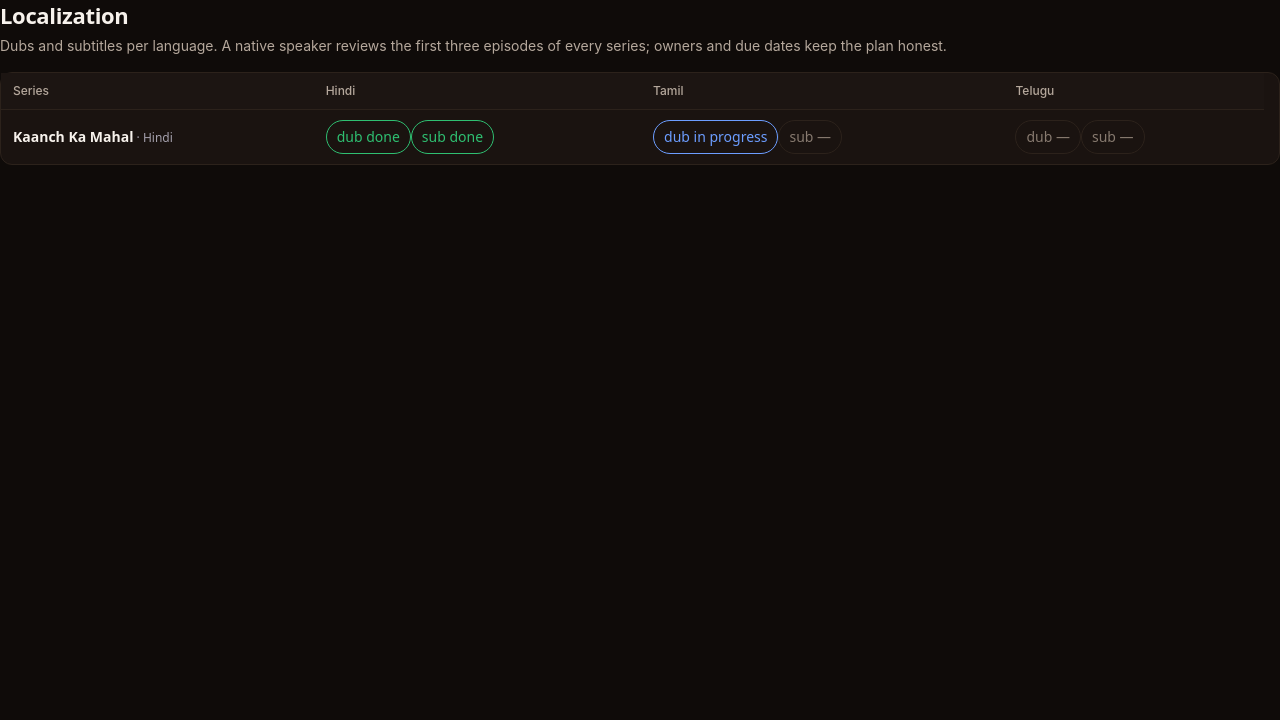
Test: Localization matrix › edits a cell through the modal and reconciles with the server
The width and height of the screenshot is (1280, 720).
Expected: the text "Kaanch Ka Mahal" is shown, [13,127,133,146]
Click the button with aria-label "Kaanch Ka Mahal Tamil sub".
click(810, 137)  # box [778,120,842,154]
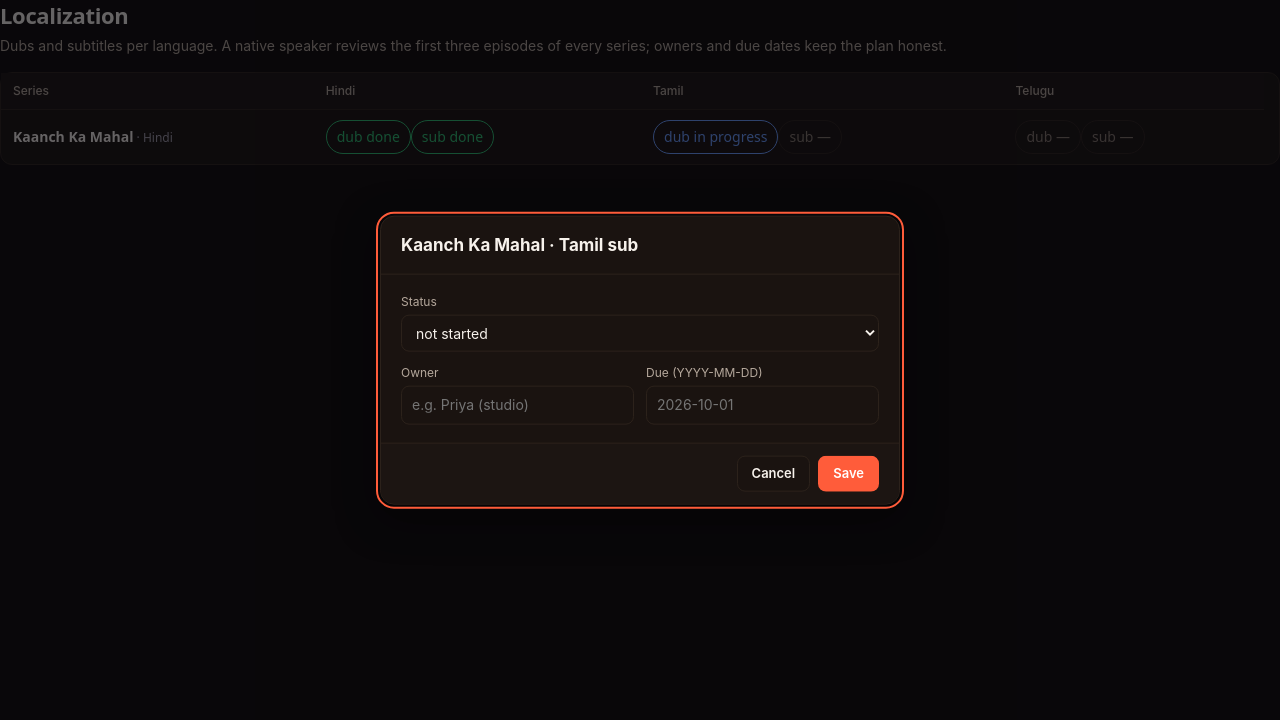
Select "in progress" in the dropdown labelled "Status" at (640, 333), box [401,315,879,352]
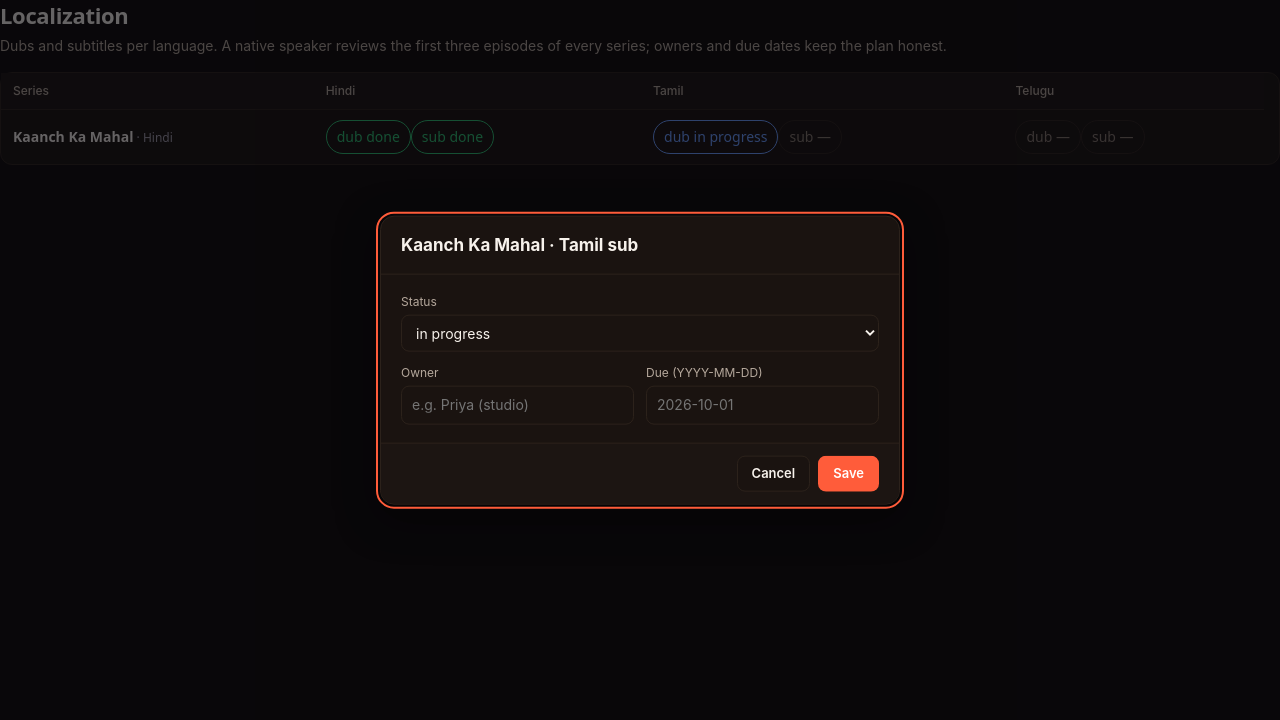
Type " Sai " into the field labelled "Owner".
click(518, 405); type(" Sai ")  # box [401,386,634,424]
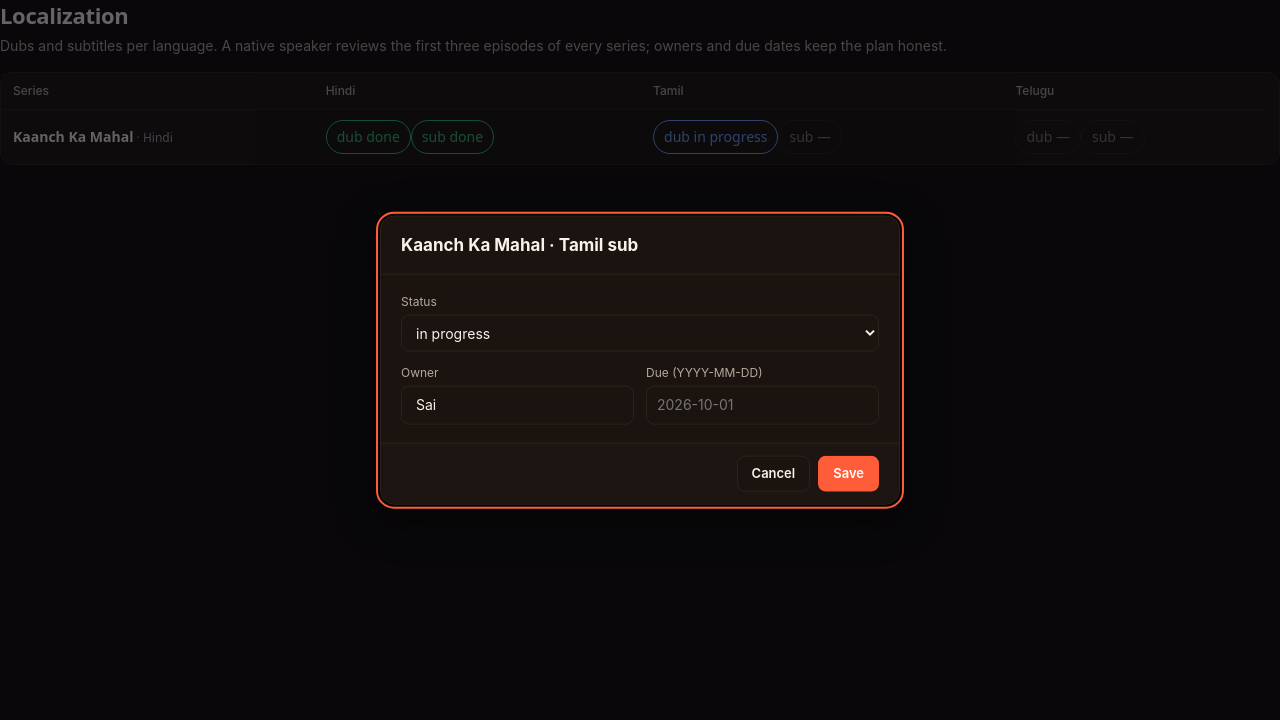
Type "2026-11-01" into the field labelled "Due".
click(762, 405); type("2026-11-01")  # box [646,386,879,424]
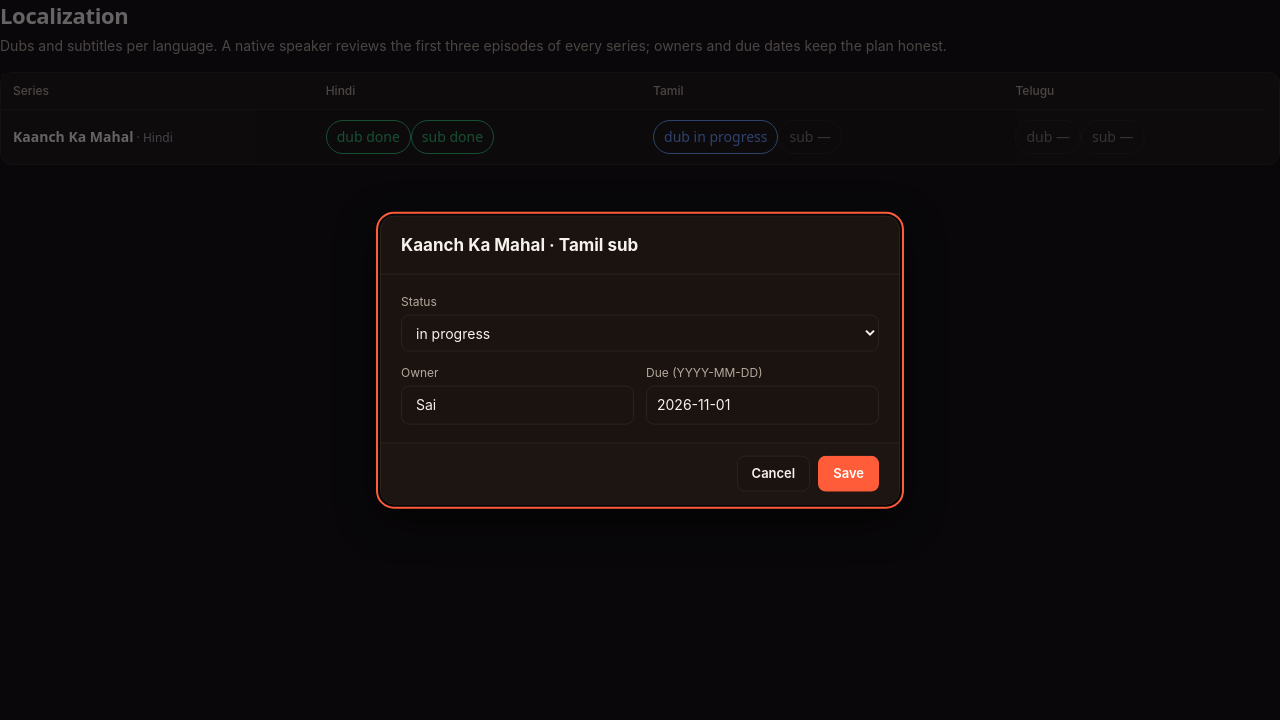
Click the button "Save".
click(849, 473)  # box [818,455,879,491]
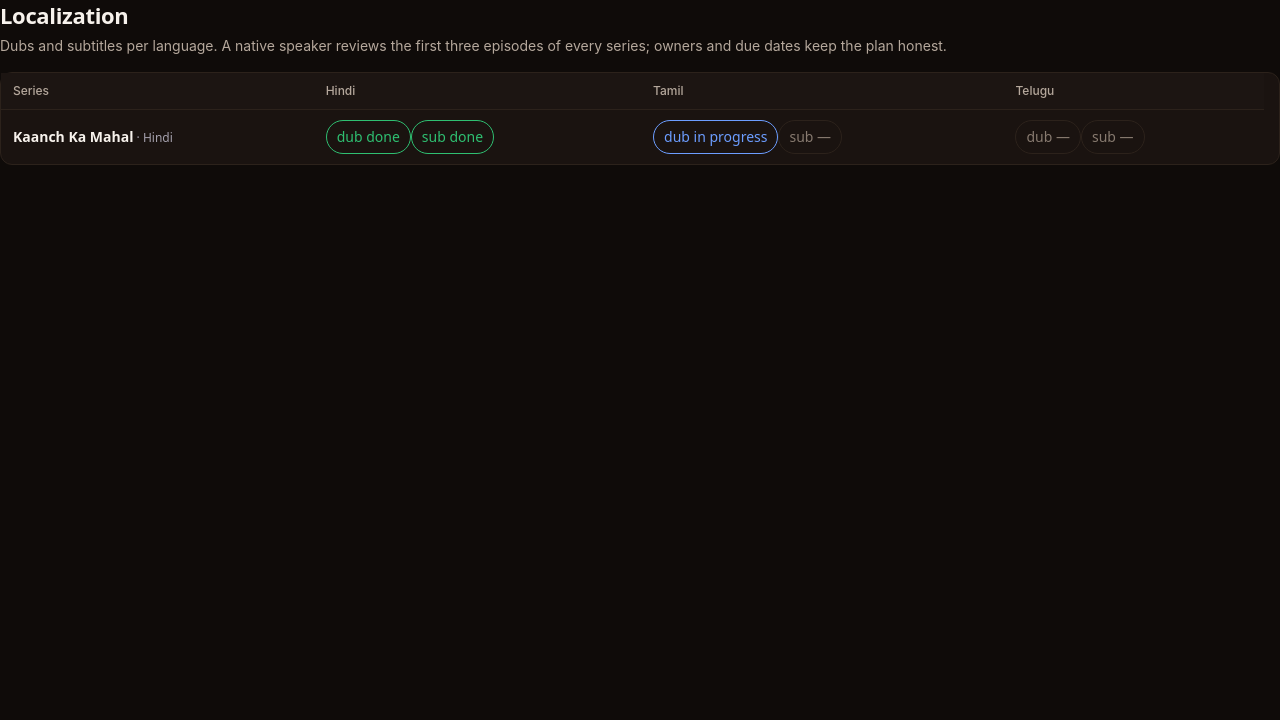
Now the dialog is gone
